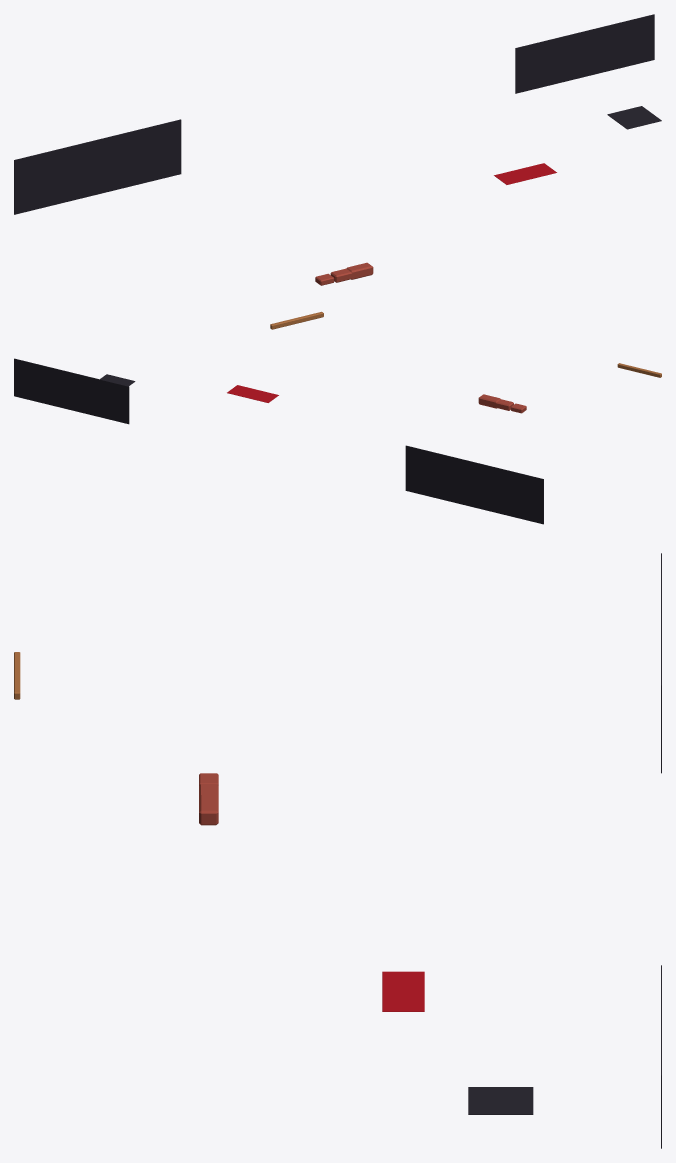
Rendered from D-SCHOOL.w3.glb.
The picture shows the model from 3 angles, top to bottom: view 1: azimuth 30°, elevation 25°; view 2: azimuth 150°, elevation 25°; view 3: azimuth 270°, elevation 25°; orthographic projection. The views are drawn at different scales.
Parts seen in each view (by area): view 1: pal_uiDark, pal_brick.002, pal_blood.001; view 2: pal_uiDark, pal_brick.002, pal_blood.001; view 3: pal_uiDark, pal_blood.001, pal_brick.002.
Boxes of the visible parts, <box> form: pal_uiDark: <box>14,14,661,214</box>; pal_brick.002: <box>315,262,373,285</box>; pal_blood.001: <box>494,163,556,184</box>; pal_uiDark: <box>14,358,543,524</box>; pal_brick.002: <box>478,394,526,413</box>; pal_blood.001: <box>227,385,278,402</box>; pal_uiDark: <box>468,553,661,1148</box>; pal_blood.001: <box>382,971,424,1011</box>; pal_brick.002: <box>199,773,218,825</box>.
Size of the model in its own units: 36.8 by 3.47 by 19.96.
